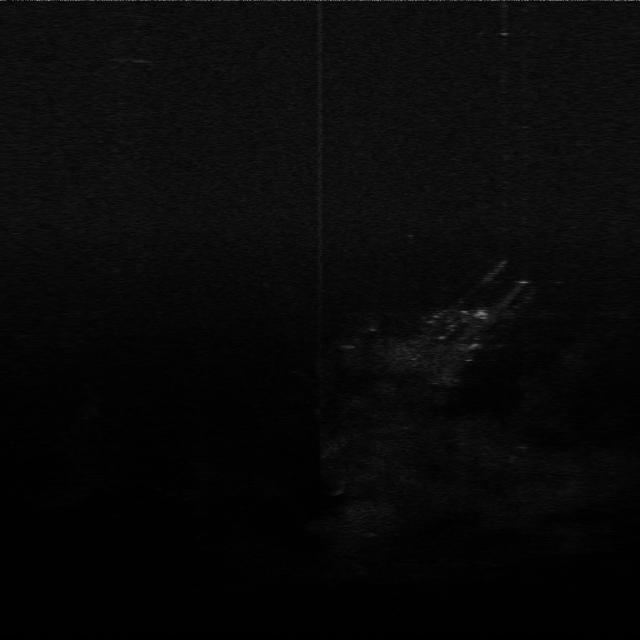rov: (469, 306, 493, 323)
